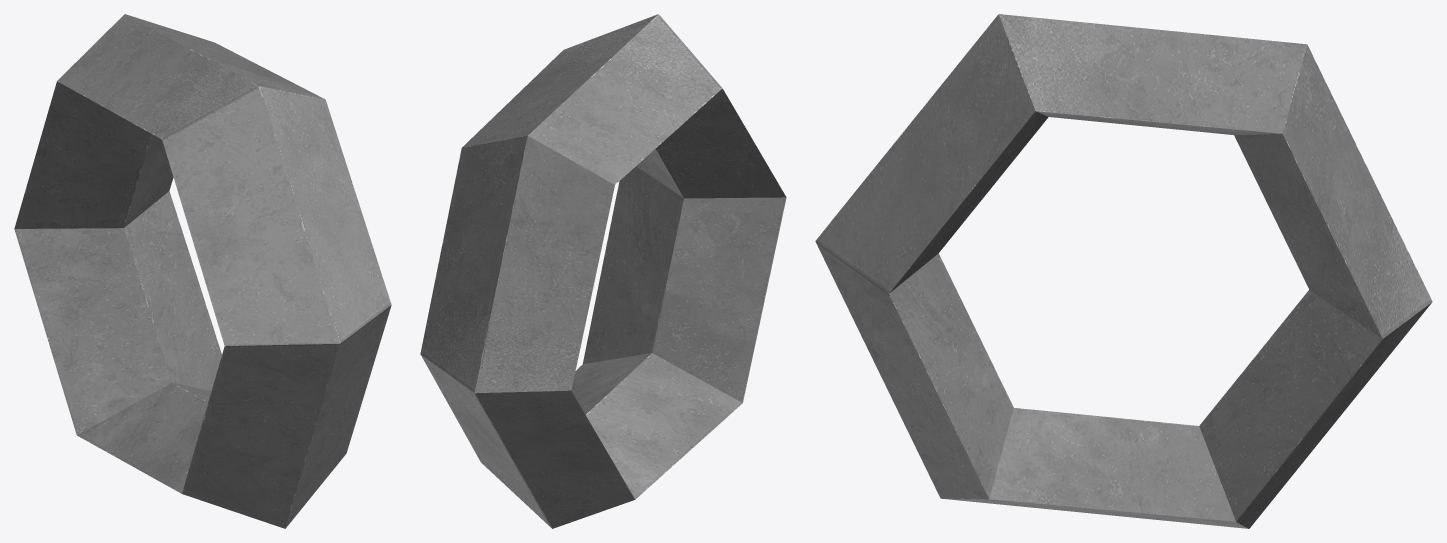
File: цепочка2.fbx
3 renders of one model, left to right at view 1: azimuth 30°, elevation 25°; view 2: azimuth 150°, elevation 25°; view 3: azimuth 270°, elevation 25°, orthographic. The views are drawn at different scales.
Visible parts, largest first — view 1: SM_Chain_Group_01.004; view 2: SM_Chain_Group_01.004; view 3: SM_Chain_Group_01.004.
Part boxes in pixels (box(x1,y1,x2,y2)): SM_Chain_Group_01.004: box(14, 14, 391, 528); SM_Chain_Group_01.004: box(420, 14, 786, 528); SM_Chain_Group_01.004: box(815, 14, 1432, 528).
Bounding box in the file's own units: 4.83 × 12.42 × 13.5.
